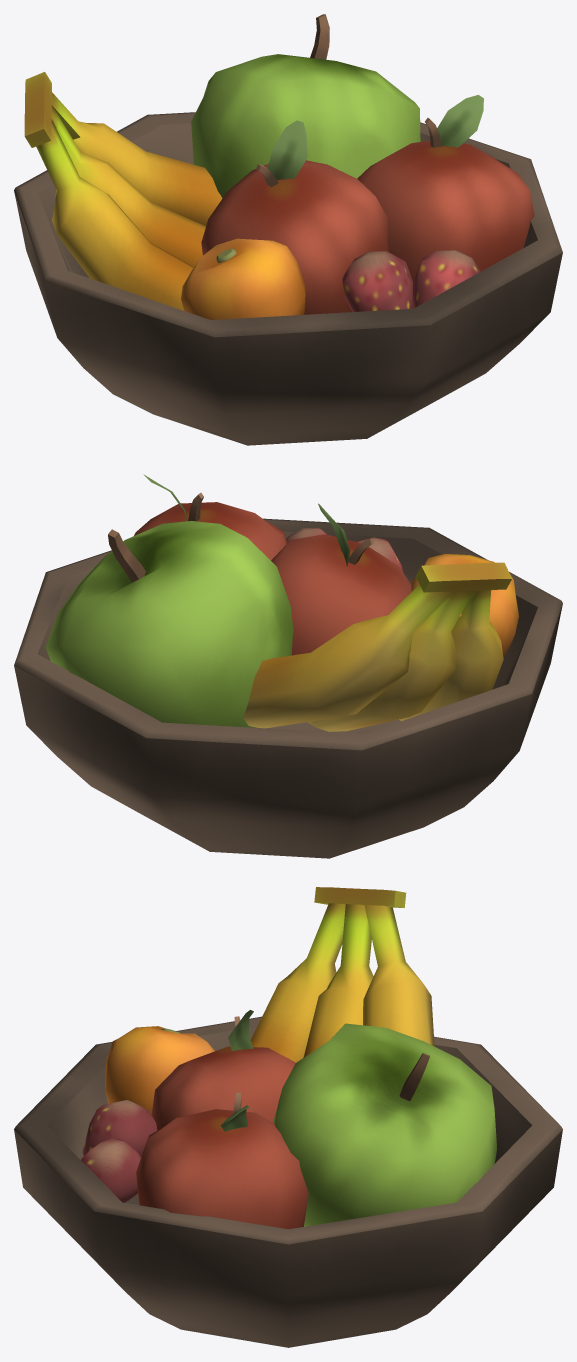
Rendered from Fruit.fbx.
The picture shows the model from 3 angles, top to bottom: view 1: azimuth 30°, elevation 25°; view 2: azimuth 150°, elevation 25°; view 3: azimuth 270°, elevation 25°; orthographic projection. The views are drawn at different scales.
Visible parts, largest first — view 1: SM_Fruit; view 2: SM_Fruit; view 3: SM_Fruit.
Part boxes in pixels (x1,y1,x2,y2): SM_Fruit: (14,14,562,445); SM_Fruit: (14,474,562,858); SM_Fruit: (14,887,562,1347).
Size of the model in its own units: 33.14 by 20.48 by 33.45.
